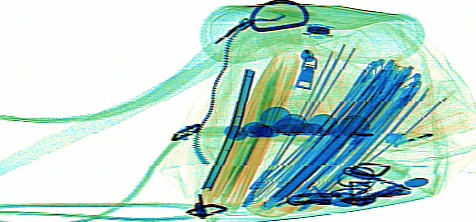lighter: (383, 111, 468, 150)
